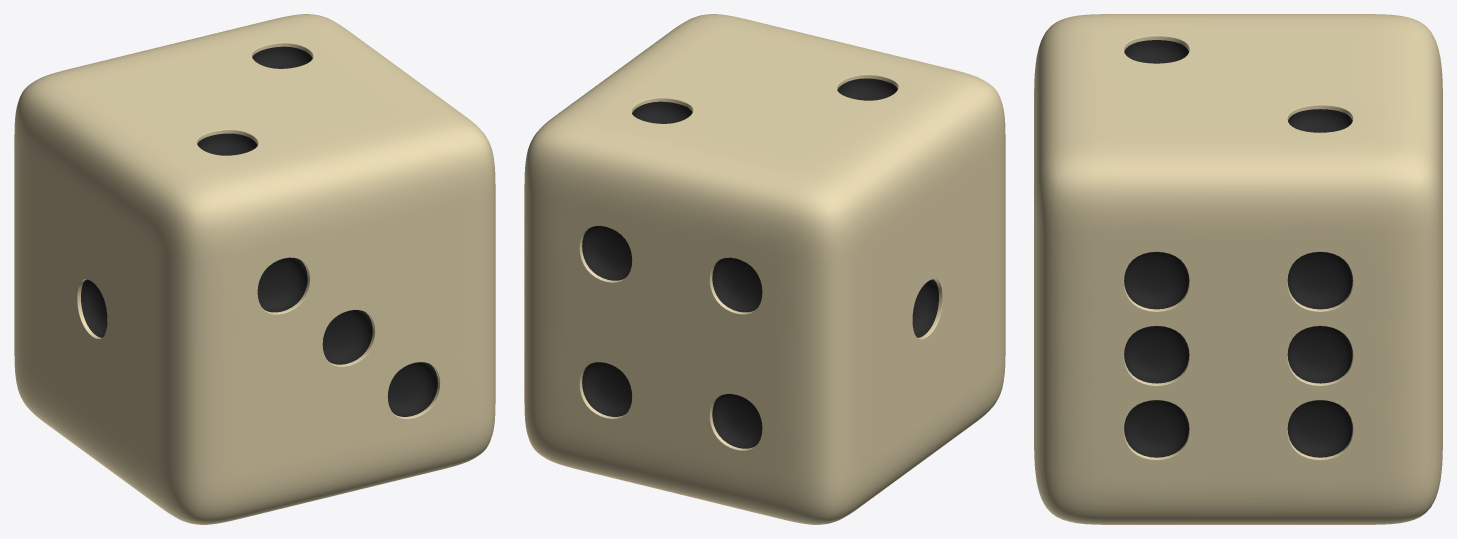
Rendered from dice.glb.
The picture shows the model from 3 angles, left to right: view 1: azimuth 30°, elevation 25°; view 2: azimuth 150°, elevation 25°; view 3: azimuth 270°, elevation 25°; orthographic projection. The views are drawn at different scales.
Visible parts, largest first — view 1: Cube; view 2: Cube; view 3: Cube.
Part boxes in pixels (<box>): Cube: <box>14,14,495,524</box>; Cube: <box>524,14,1005,524</box>; Cube: <box>1034,14,1442,524</box>.
Bounding box in the file's own units: 2 × 2 × 2.
